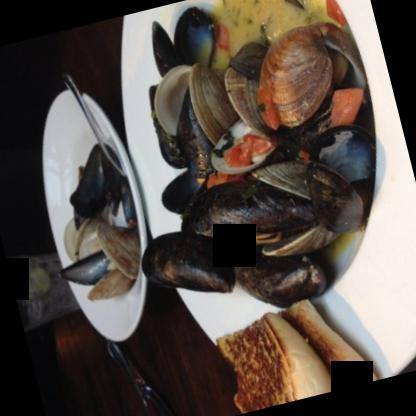mussel: (194, 156, 364, 270), (247, 16, 378, 136), (148, 54, 245, 155), (138, 225, 242, 307)
